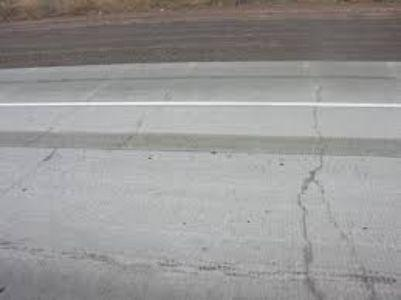crack: (320, 187, 373, 295), (297, 173, 328, 300), (308, 75, 331, 175)
